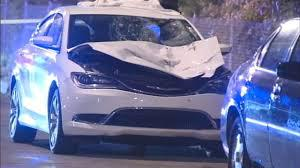bonnet-dent: (81, 40, 227, 83)
